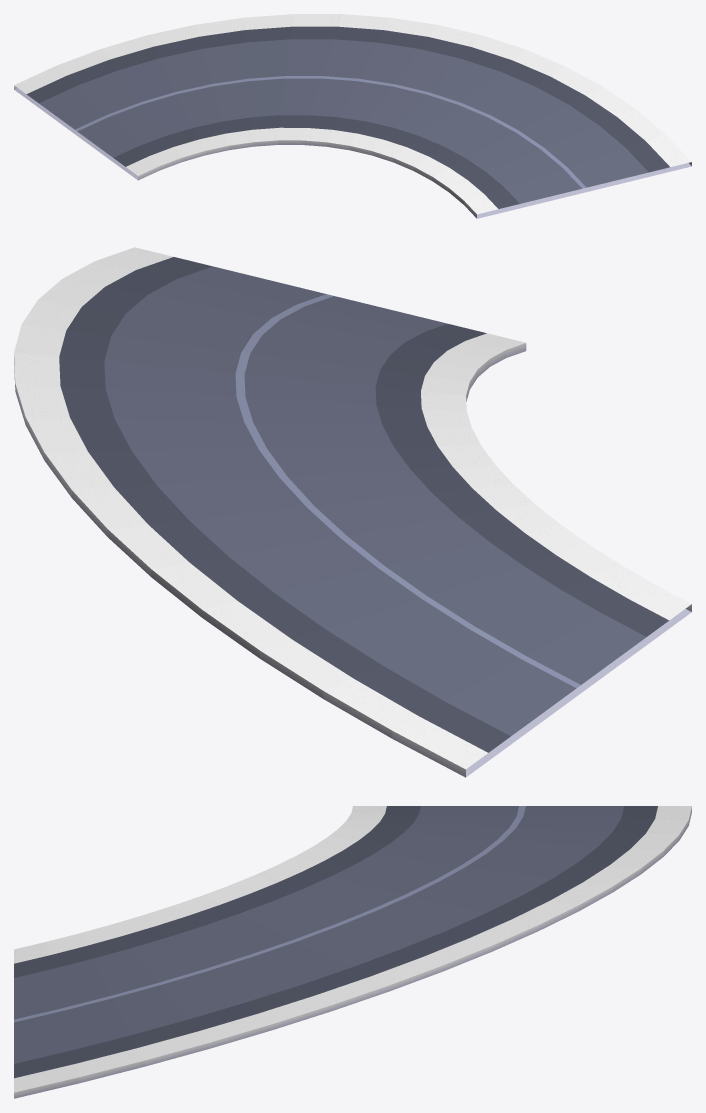
Rendered from road-Turn-BiSlopeUp-BiSlopeDown-Even-Left-Size2.glb.
3 views of the same model, one above another, from view 1: azimuth 30°, elevation 25°; view 2: azimuth 150°, elevation 25°; view 3: azimuth 270°, elevation 25° (orthographic). The views are drawn at different scales.
Parts seen in each view (by area): view 1: road-Turn-BiSlopeUp-BiSlopeDown-Even-Left-Size2; view 2: road-Turn-BiSlopeUp-BiSlopeDown-Even-Left-Size2; view 3: road-Turn-BiSlopeUp-BiSlopeDown-Even-Left-Size2.
Part boxes in pixels (x1,y1,x2,y2): road-Turn-BiSlopeUp-BiSlopeDown-Even-Left-Size2: [14, 14, 691, 218]; road-Turn-BiSlopeUp-BiSlopeDown-Even-Left-Size2: [14, 247, 691, 777]; road-Turn-BiSlopeUp-BiSlopeDown-Even-Left-Size2: [14, 806, 691, 1098].
Size of the model in its own units: 2 by 0.227 by 2.
Materials: 1 (1 with a texture image).
